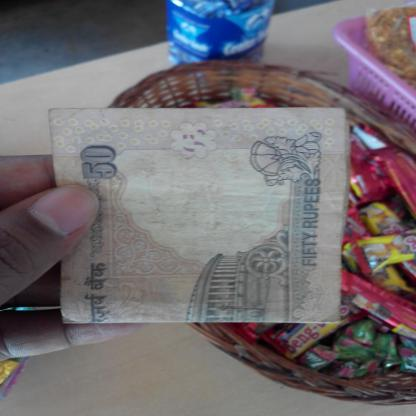Old50Back: (48, 107, 350, 324)
